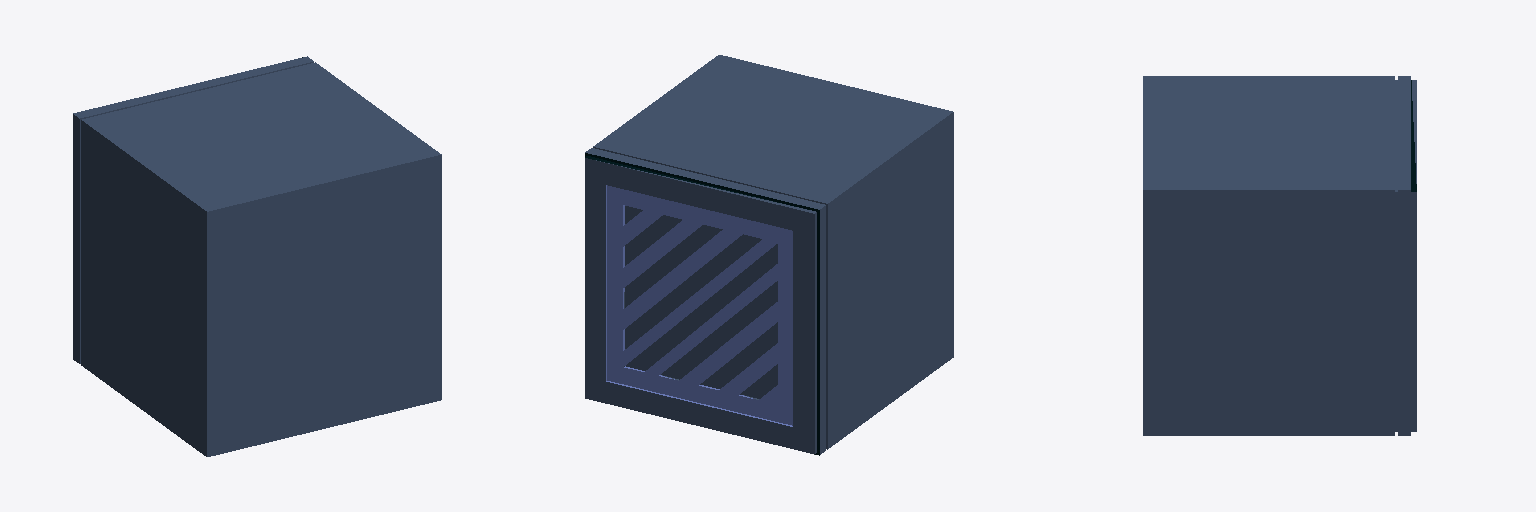
File: 高台禁止.obj
3 views of the same model, side by side, from view 1: azimuth 30°, elevation 25°; view 2: azimuth 150°, elevation 25°; view 3: azimuth 270°, elevation 25° (orthographic).
Parts seen in each view (by area): view 1: 高台禁止; view 2: 高台禁止; view 3: 高台禁止.
Boxes of the visible parts, <box> form: 高台禁止: <box>73,56,441,456</box>; 高台禁止: <box>585,55,953,455</box>; 高台禁止: <box>1143,76,1416,435</box>.
Bounding box in the file's own units: 1 × 1 × 1.01.